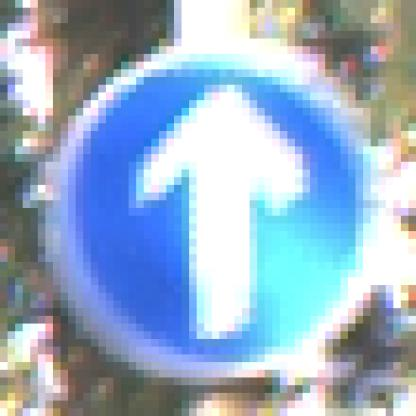AheadOnly: (39, 40, 379, 379)
